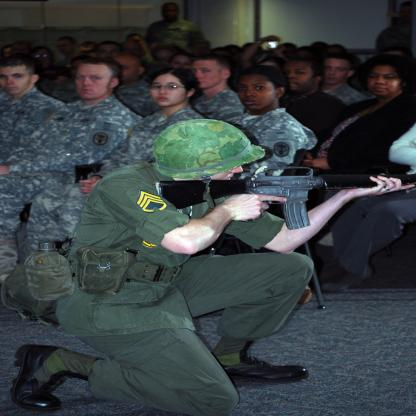Helmet: (143, 122, 263, 183)
